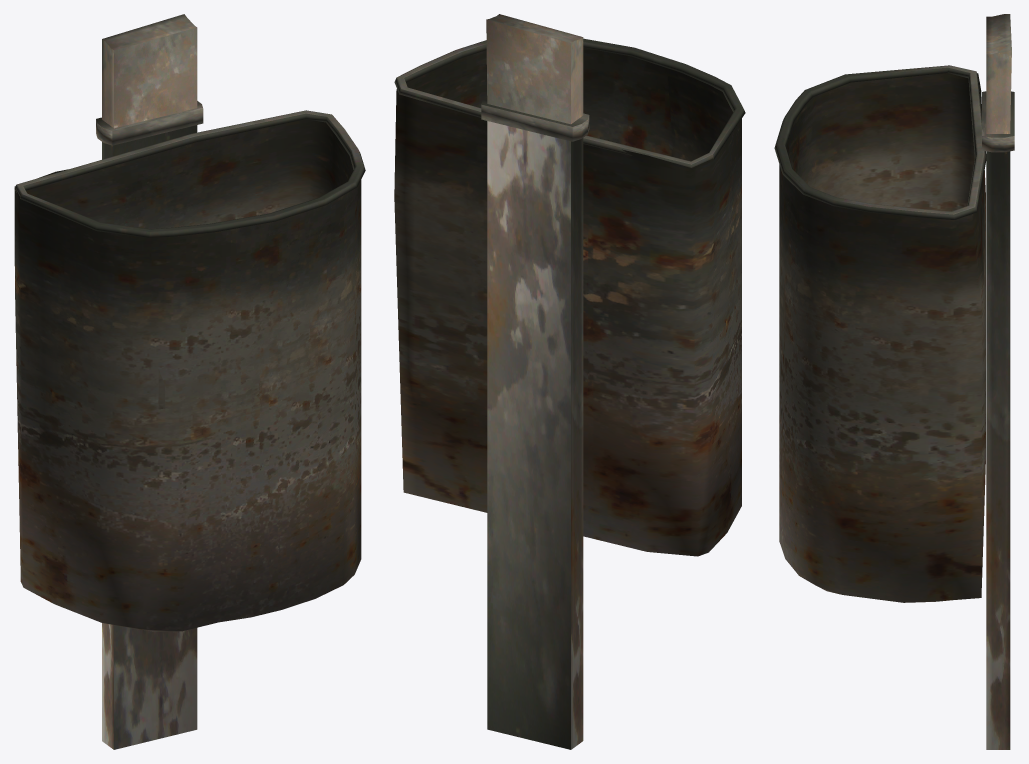
File: Trashcan01.dae
3 renders of one model, left to right at view 1: azimuth 30°, elevation 25°; view 2: azimuth 150°, elevation 25°; view 3: azimuth 270°, elevation 25°, orthographic.
Visible parts, largest first — view 1: polySurface13, polySurface6; view 2: polySurface13, polySurface6; view 3: polySurface13, polySurface6.
Boxes of the visible parts, box(x1,y1,x2,y2) form: polySurface13: box(14, 119, 361, 631); polySurface6: box(14, 14, 365, 749); polySurface13: box(394, 48, 741, 556); polySurface6: box(394, 14, 745, 749); polySurface13: box(779, 73, 985, 602); polySurface6: box(774, 14, 1014, 749).
Size of the model in its own units: 0.7571 by 1.62 by 0.5038.
Materials: 2 (2 with a texture image).
